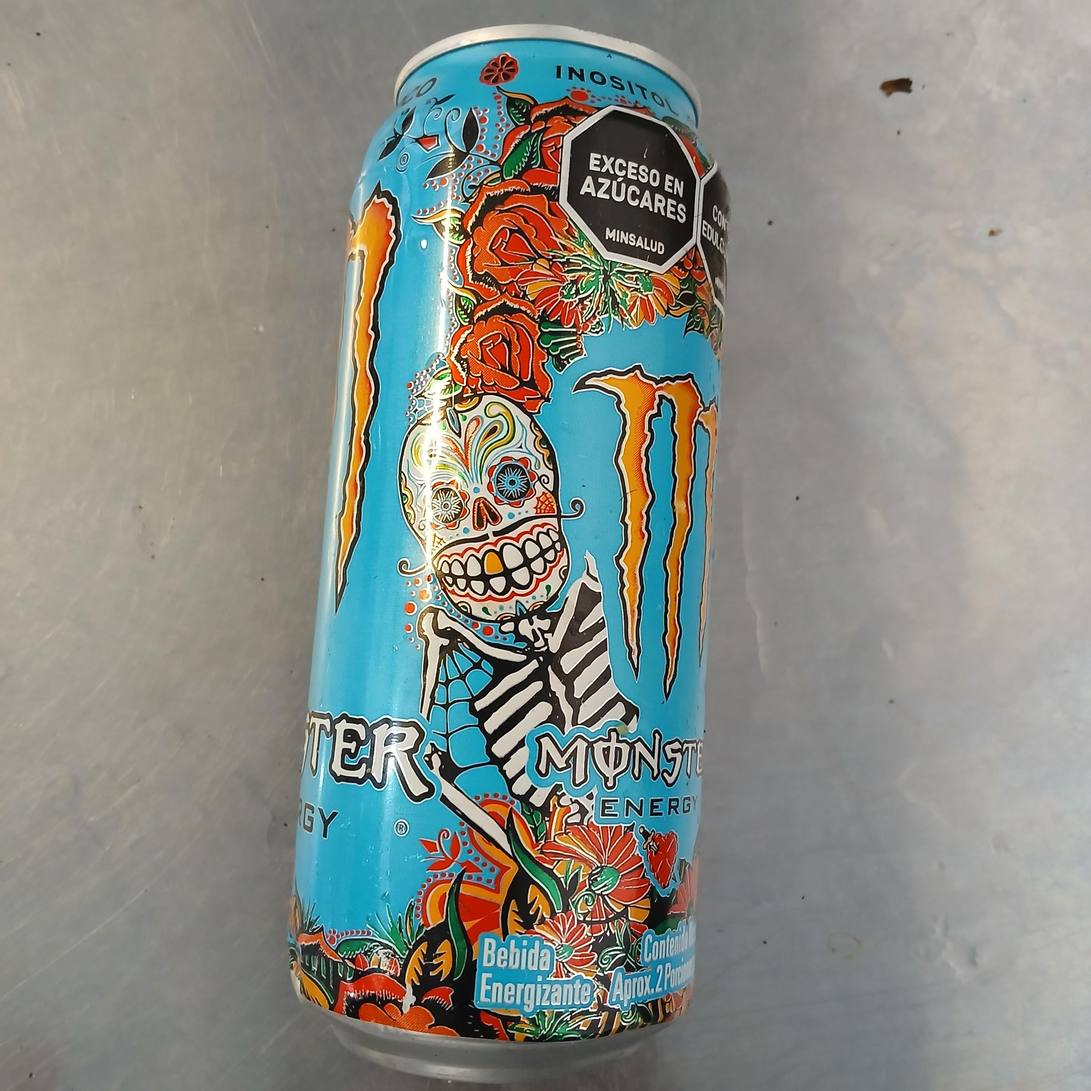Metal: (288, 20, 727, 1082), (295, 17, 359, 96)
